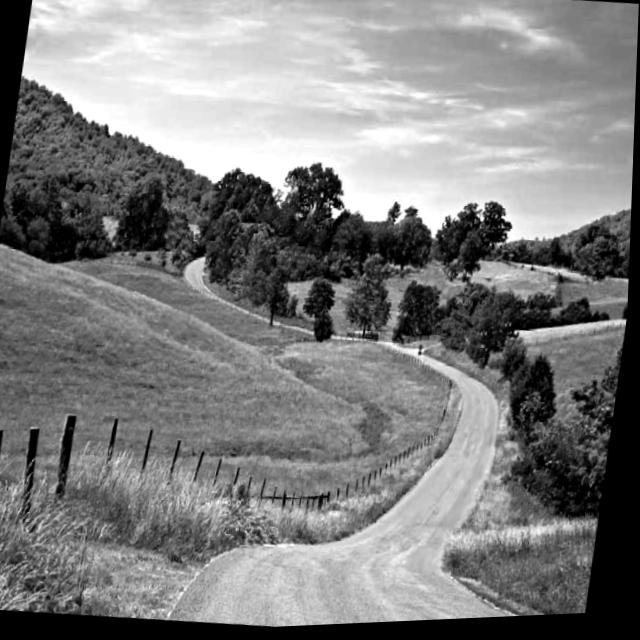cleat: (0, 153, 590, 629)
